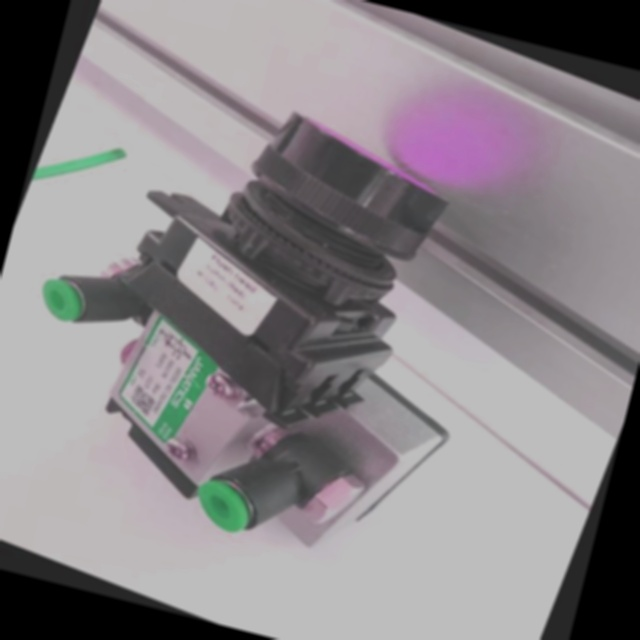push button: (0, 35, 553, 606)
